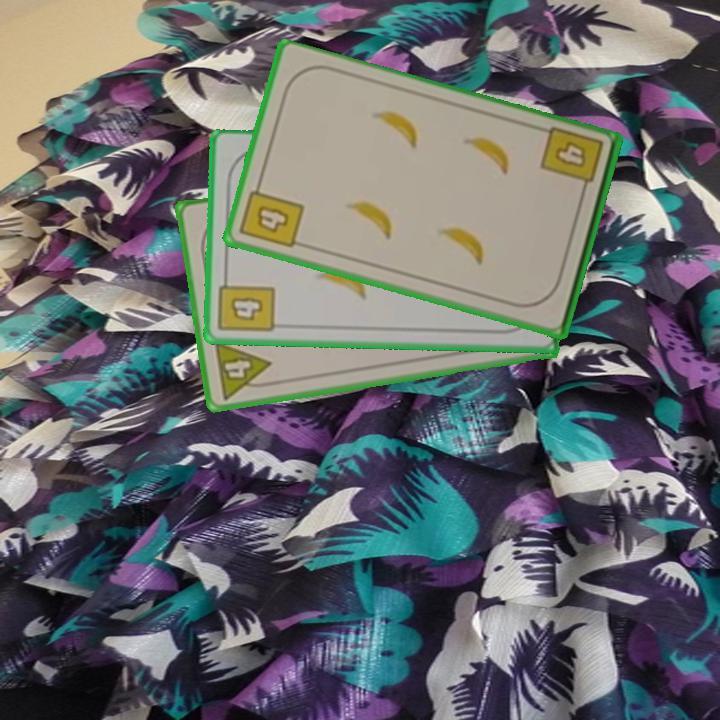4b: (537, 124, 606, 200), (236, 178, 307, 251), (215, 271, 277, 336)
4p: (211, 337, 277, 402)
